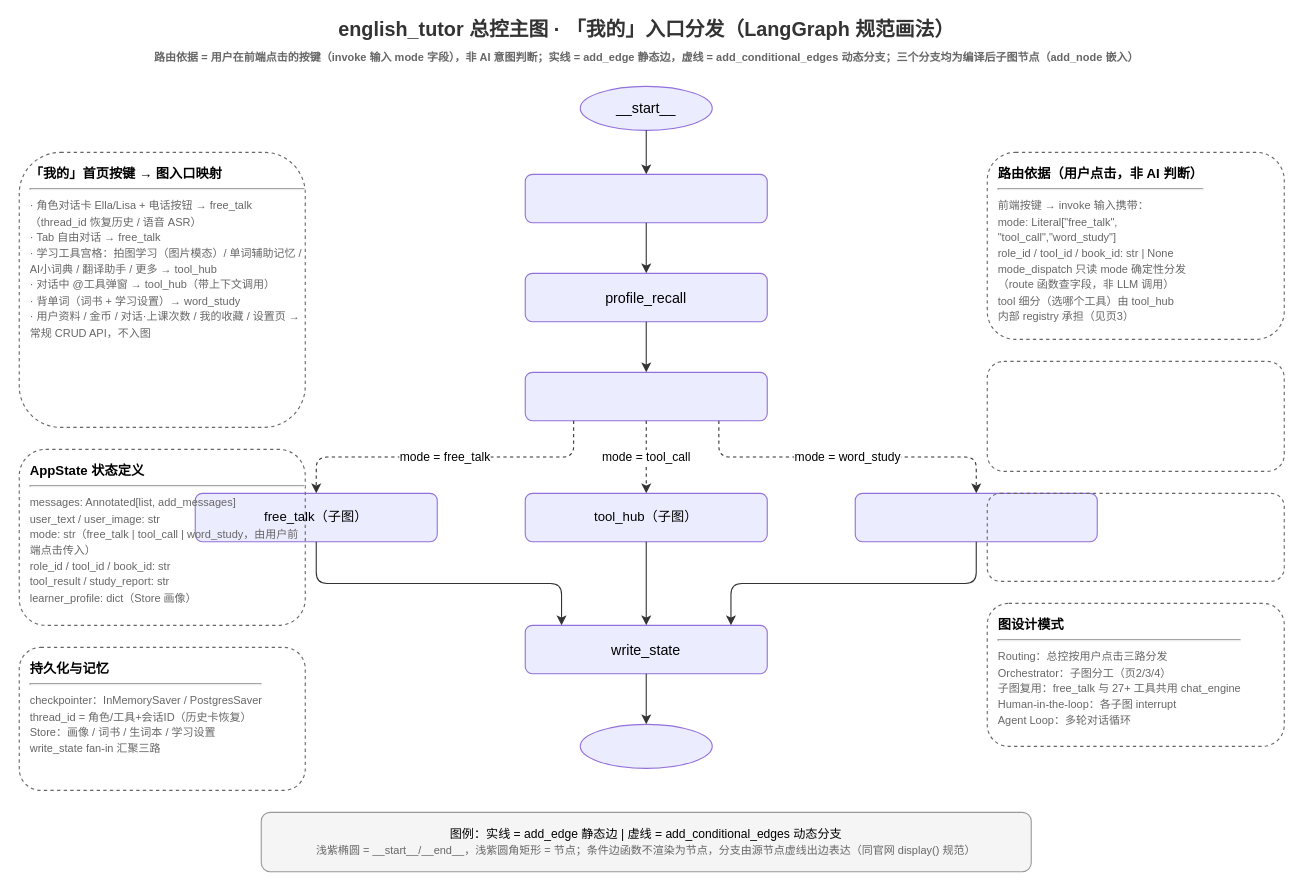
This 1304x891 diagram has some shape labels left out. Each missing label, with the centre of its shape:
__end__: the point at 645,745
load_session: the point at 645,198
mode_dispatch（按用户点击的 mode 分发）: the point at 645,396
word_study（子图）: the point at 975,517
可观测性 LangSmith trace 全链路 astream 流式 + 首字延迟统计: the point at 1135,536
容错链 RetryPolicy(max_attempts=3) timeout=30s + 指数退避 mode 缺失 → 默认 free_talk 兜底: the point at 1135,415
